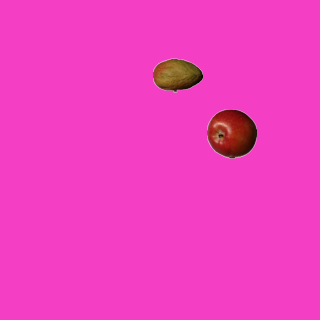Apple Braeburn: (206, 108, 256, 158)
Papaya: (152, 50, 202, 100)
